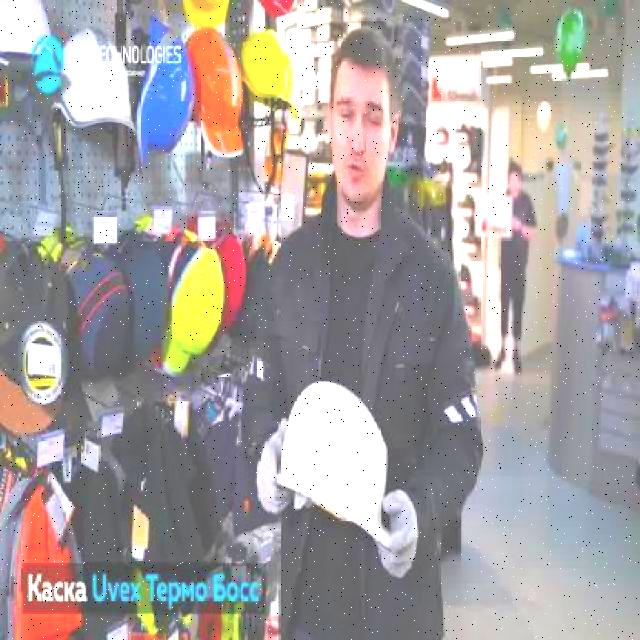Gloves: (377, 486, 420, 580), (255, 414, 292, 514)
Helmet: (281, 376, 394, 547), (134, 21, 197, 176), (56, 26, 138, 137), (186, 26, 246, 159), (238, 29, 302, 122), (0, 0, 66, 80)
